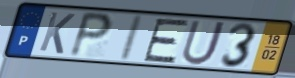3: (219, 21, 259, 70)
E: (141, 17, 192, 65)
I: (116, 13, 147, 63)
K: (37, 10, 78, 56)
P: (66, 10, 115, 60)
U: (179, 19, 229, 67)
